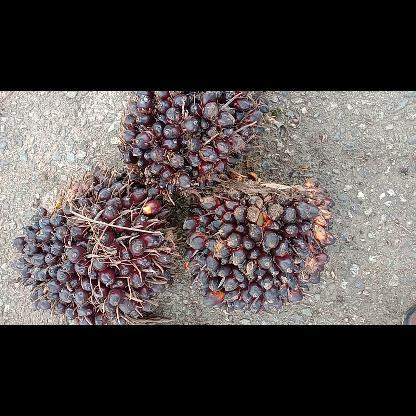TBS mentah: (14, 168, 176, 324), (184, 170, 332, 310), (118, 91, 268, 197)
